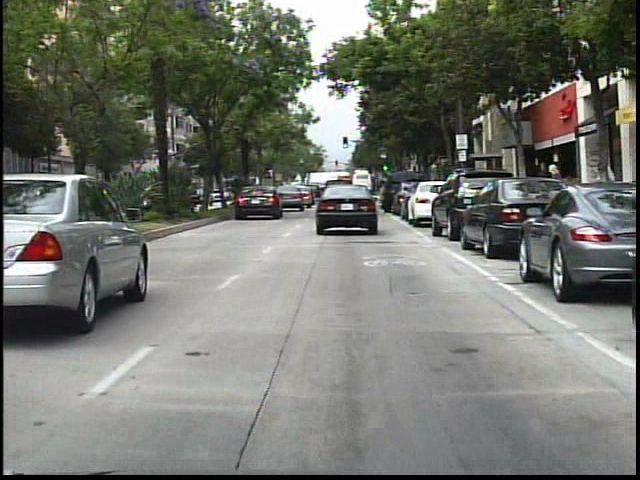person: (528, 158, 553, 222), (538, 160, 565, 219), (590, 152, 614, 218)
